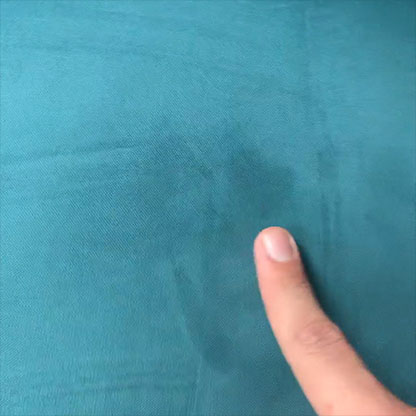fingertip: (241, 213, 305, 270)
